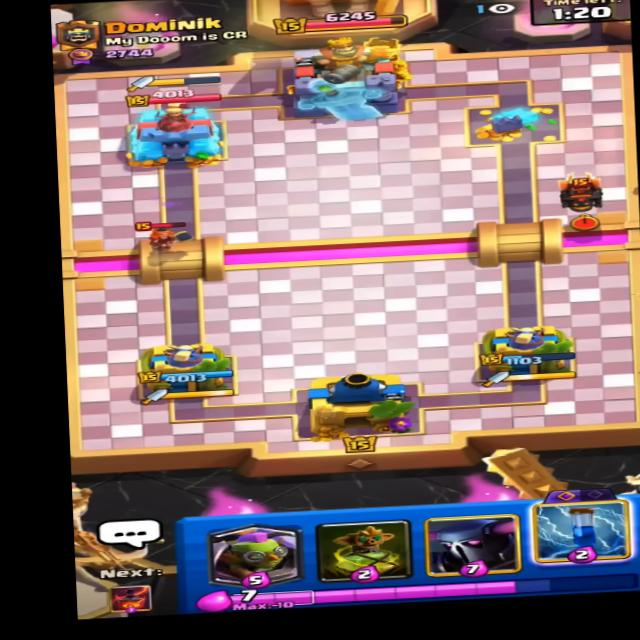lava-hound: (525, 168, 626, 214)
valkyrie: (128, 213, 194, 253)
